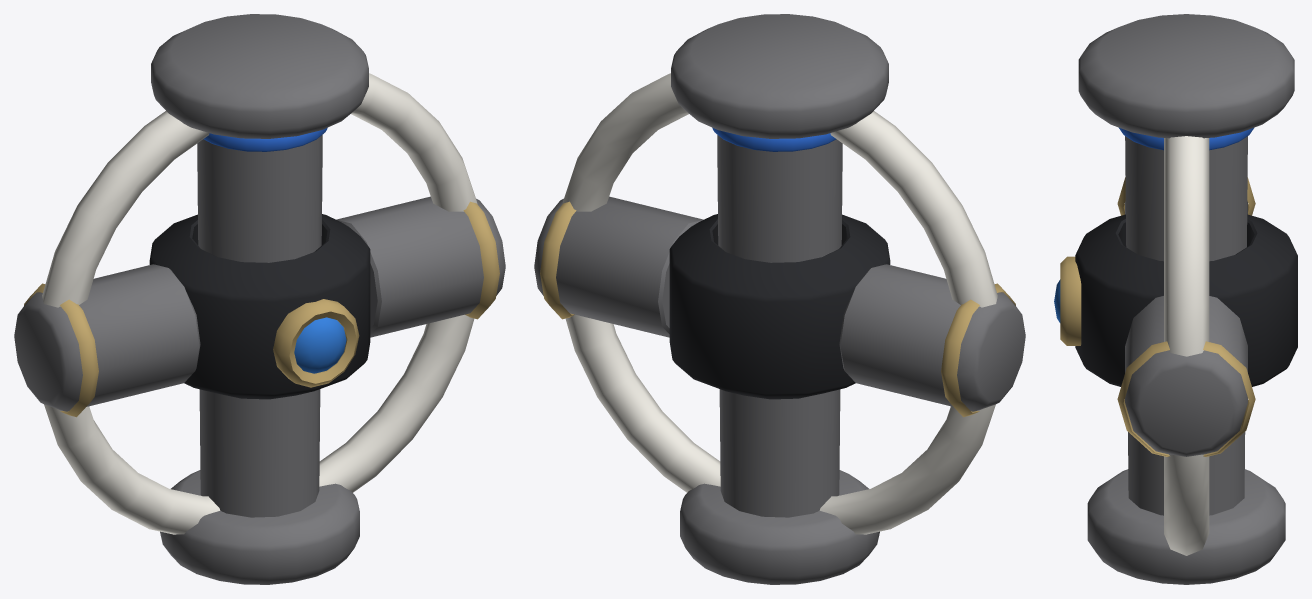
Rendered from Kit_Limb_ProSpine_L.glb.
3 renders of one model, left to right at view 1: azimuth 30°, elevation 25°; view 2: azimuth 150°, elevation 25°; view 3: azimuth 270°, elevation 25°, orthographic.
Parts seen in each view (by area): view 1: Kit_Limb_ProSpine_L; view 2: Kit_Limb_ProSpine_L; view 3: Kit_Limb_ProSpine_L.
Part boxes in pixels (x1,y1,x2,y2): Kit_Limb_ProSpine_L: (14, 14, 505, 584); Kit_Limb_ProSpine_L: (534, 14, 1025, 584); Kit_Limb_ProSpine_L: (1054, 14, 1297, 584).
Bounding box in the file's own units: 0.3334 × 0.3568 × 0.1588.
